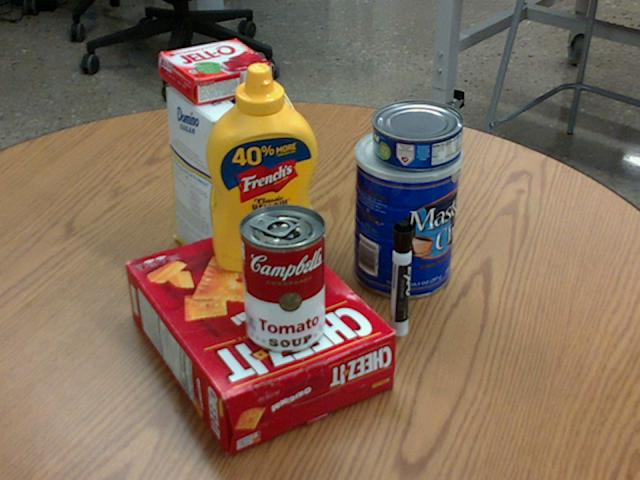cracker_box: (127, 218, 396, 454)
gelatin_box: (159, 39, 273, 104)
large_marker: (387, 220, 412, 337)
master_chef_can: (350, 125, 463, 298)
mug: (219, 141, 306, 243)
mustard_bottle: (205, 62, 316, 271)
potted_meat_can: (204, 79, 315, 200)
sugar_box: (167, 80, 247, 277)
tomato_soup_can: (239, 203, 325, 352)
tuna_fish_can: (372, 100, 464, 170)
